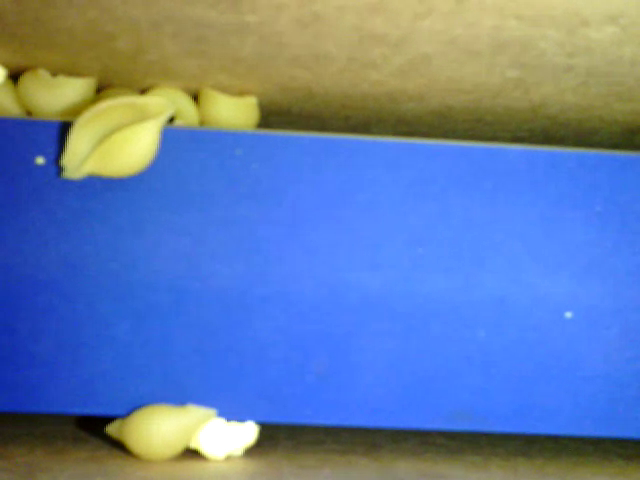shell: (57, 94, 176, 180), (105, 400, 218, 463), (14, 66, 100, 120), (197, 84, 259, 130)
